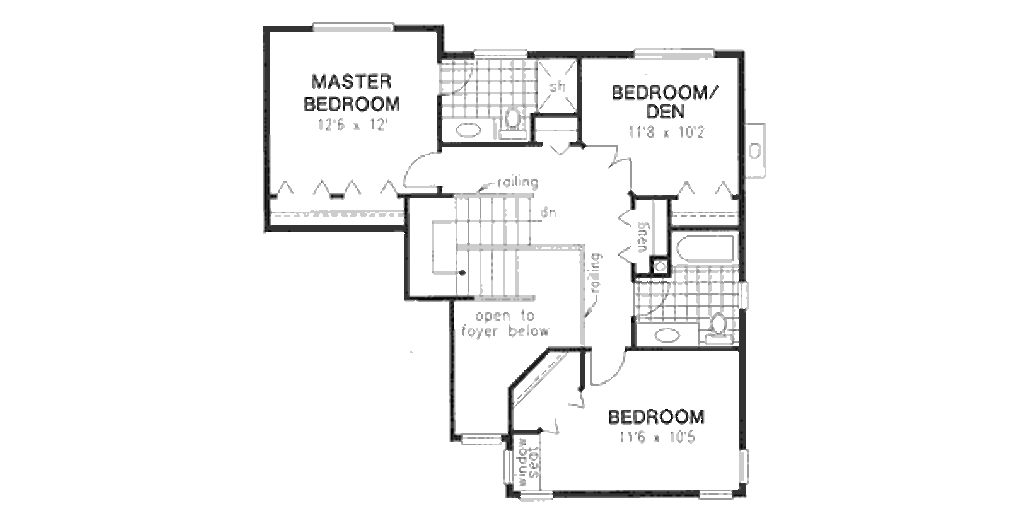door: (584, 140, 644, 194), (398, 143, 446, 187), (588, 343, 634, 387), (437, 56, 484, 96), (635, 277, 675, 316)
large_sink: (706, 311, 733, 347), (502, 102, 525, 141)
small_sink: (641, 322, 700, 347), (441, 114, 493, 141)
stairs: (414, 189, 553, 301)
tub: (668, 226, 738, 269)
window: (313, 16, 397, 40), (470, 43, 536, 60), (637, 48, 714, 58), (462, 430, 500, 449), (699, 488, 730, 502), (519, 488, 555, 499), (505, 451, 513, 486)
